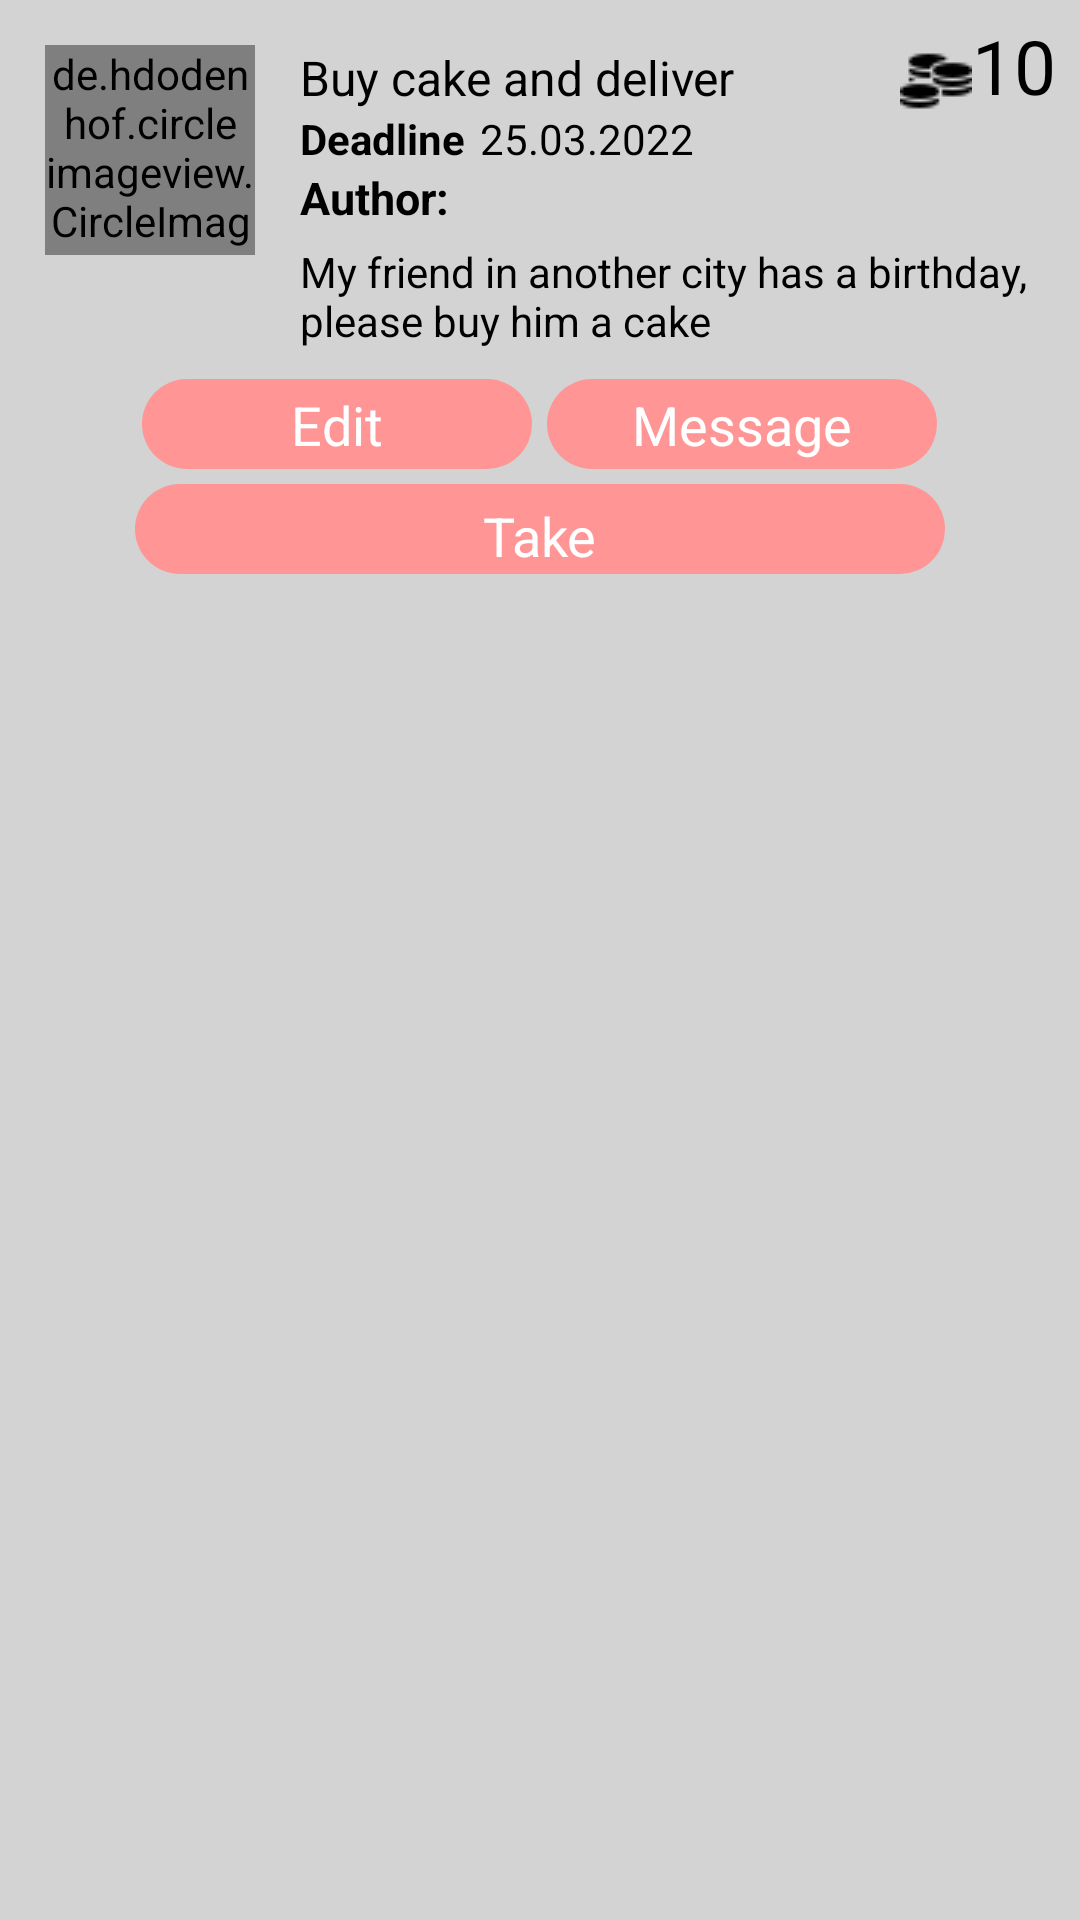

Icon click points for this 1080x1920 phone screenshot, format (x=x, y=y):
coins: (x=936, y=81)
